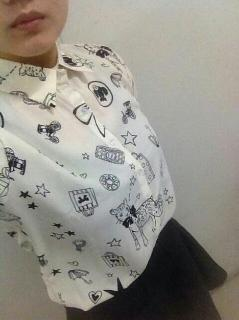long sleeve top: (0, 40, 178, 312)
skirt: (66, 216, 229, 319)
